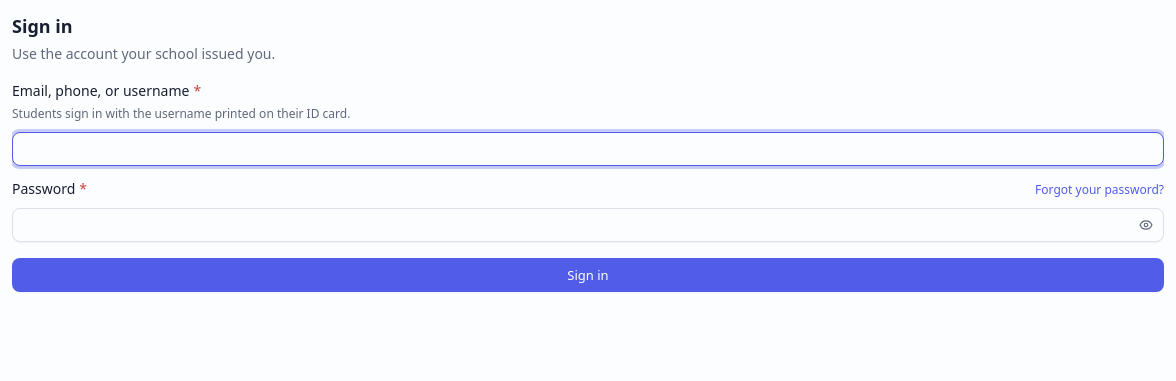
Scenario: LoginForm › shows a mapped error message for a known error code
Type "admin@cityschool.test" into the field labelled "Email, phone, or username*" at (588, 149), box [12,132,1164,166]
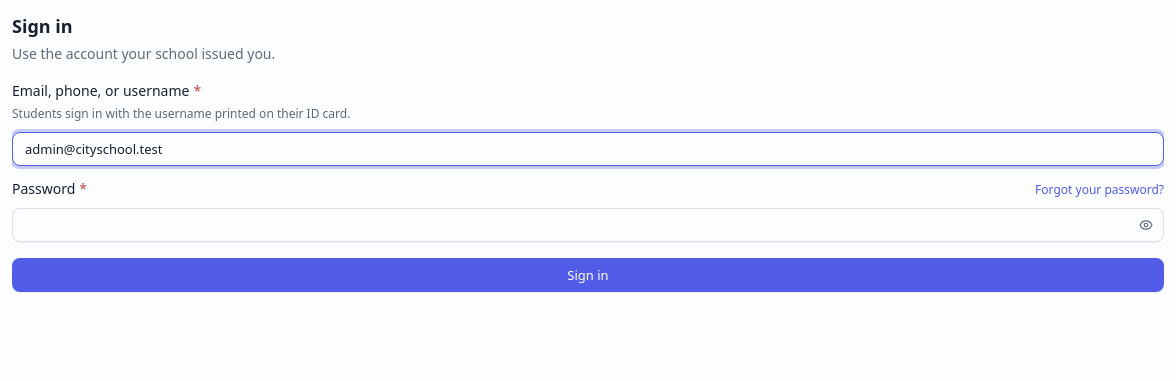
Type "secret123" into the password field labelled "Password*" at (588, 225), box [12,208,1164,242]
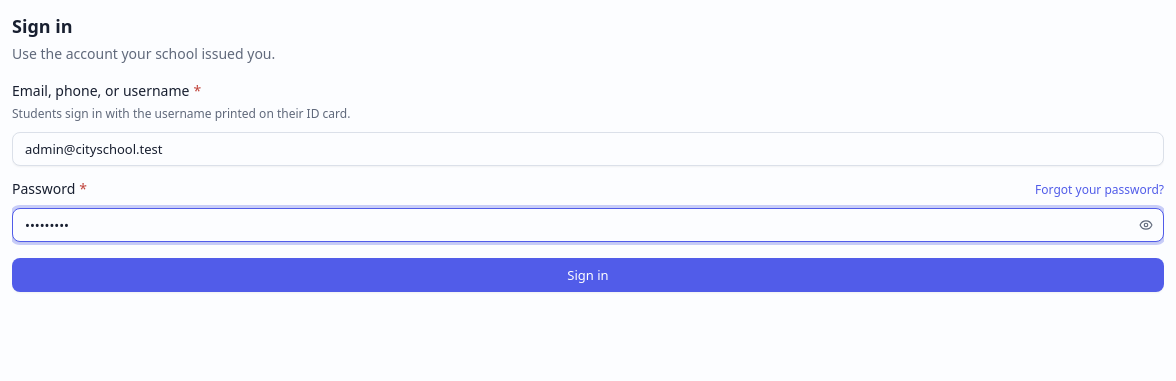
Click the button "Sign in" at (588, 275), box [12,258,1164,292]
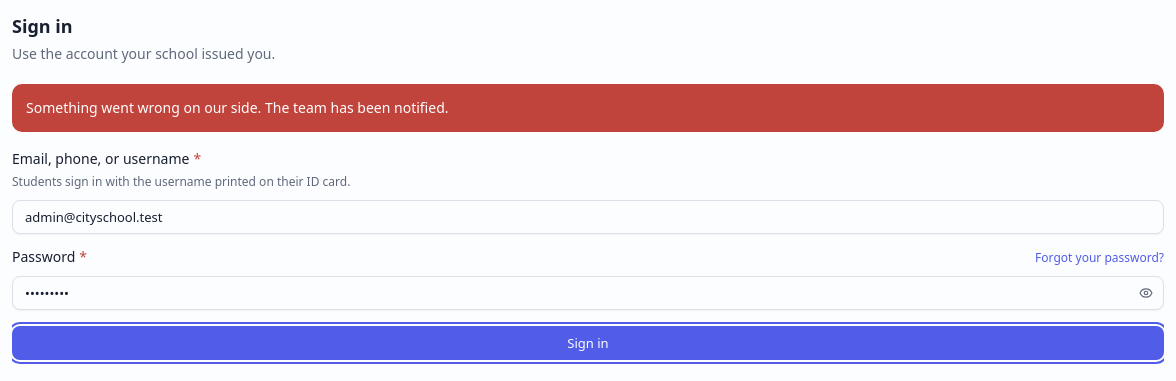
Expected: the text "Something went wrong on our side. The team has been notified." is shown, [26,98,448,118]
